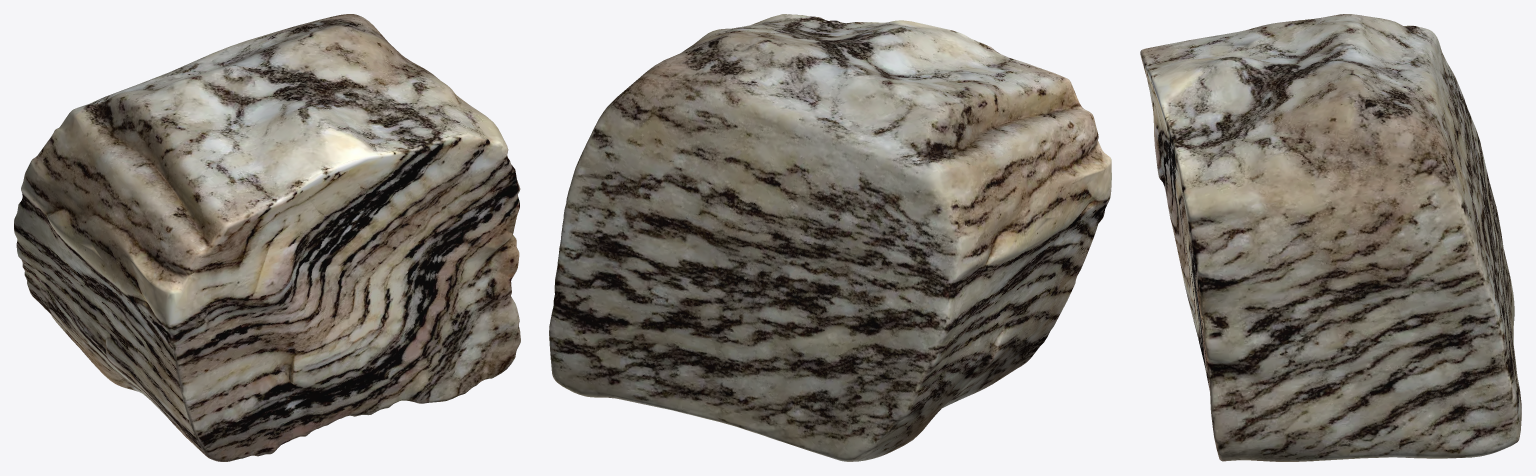
File: gneiss.glb
The picture shows the model from 3 angles, left to right: view 1: azimuth 30°, elevation 25°; view 2: azimuth 150°, elevation 25°; view 3: azimuth 270°, elevation 25°; orthographic projection. The views are drawn at different scales.
Visible parts, largest first — view 1: node_0; view 2: node_0; view 3: node_0.
Part boxes in pixels (x1,y1,x2,y2): node_0: (14, 14, 520, 461); node_0: (549, 14, 1111, 461); node_0: (1140, 14, 1521, 461).
Size of the model in its own units: 0.8621 by 0.7231 by 0.7266.
1 material, 1 textured.
